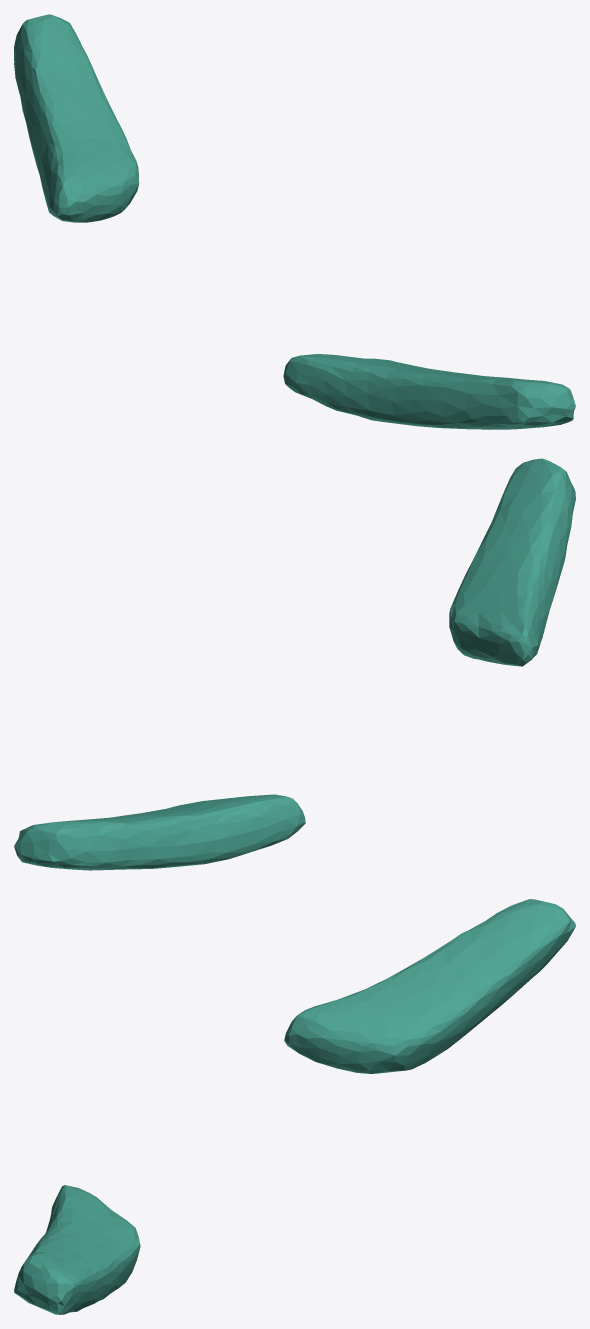
3 renders of one model, top to bottom at view 1: azimuth 30°, elevation 25°; view 2: azimuth 150°, elevation 25°; view 3: azimuth 330°, elevation 25°, orthographic.
Visible parts, largest first — view 1: 670.obj; view 2: 670.obj; view 3: 670.obj.
Part boxes in pixels (bbox=[...]): 670.obj: bbox=[14, 14, 575, 429]; 670.obj: bbox=[14, 458, 575, 870]; 670.obj: bbox=[14, 899, 575, 1314].
Size of the model in its own units: 892 by 546 by 5334.
